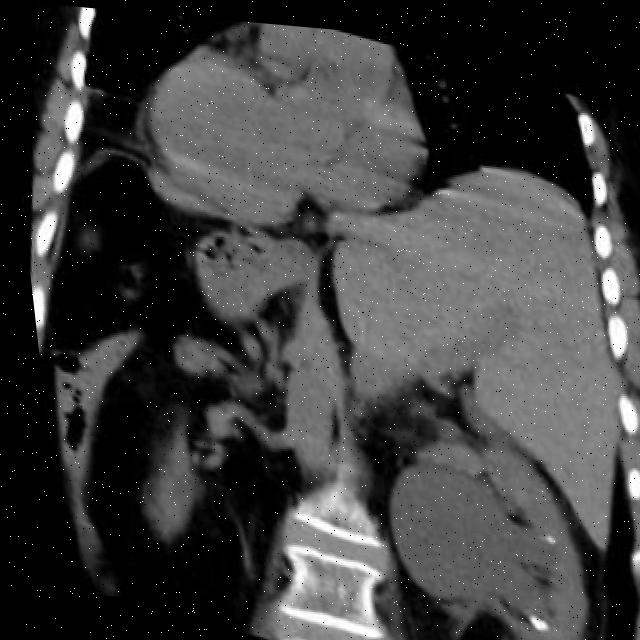Tas_Var: (512, 601, 541, 629), (535, 523, 546, 536), (525, 523, 538, 534)
